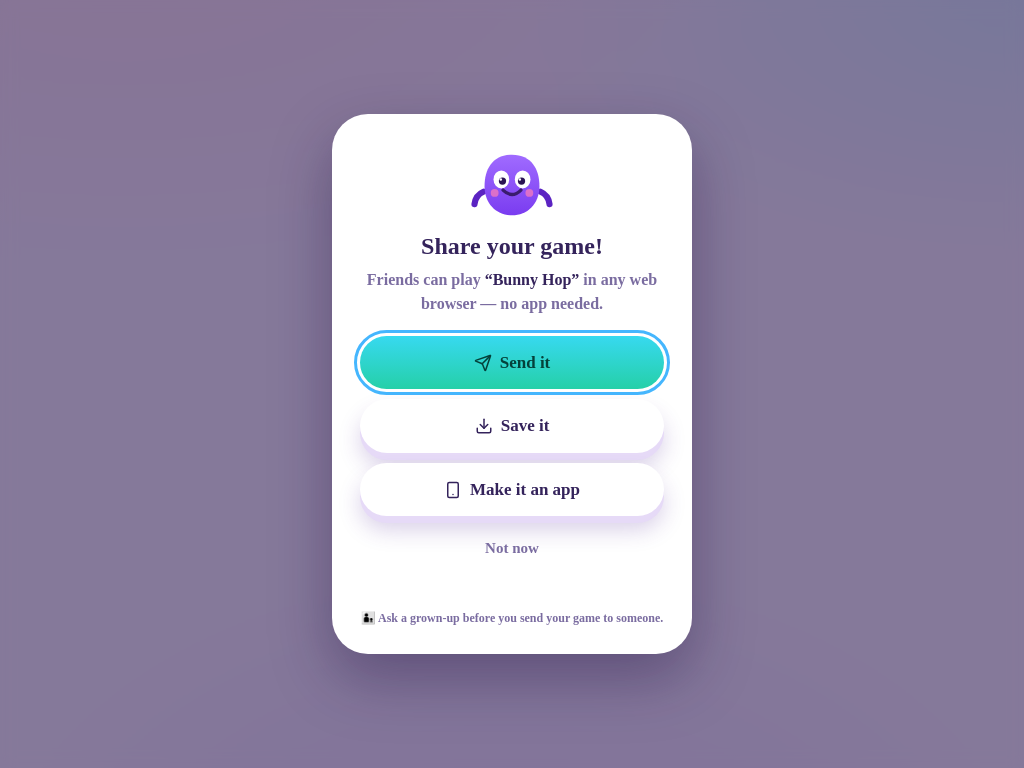
Test: ShareDialog › sends the game file through the share sheet when the device can
Click the button "Send it".
click(512, 363)  # box [360,336,664,389]
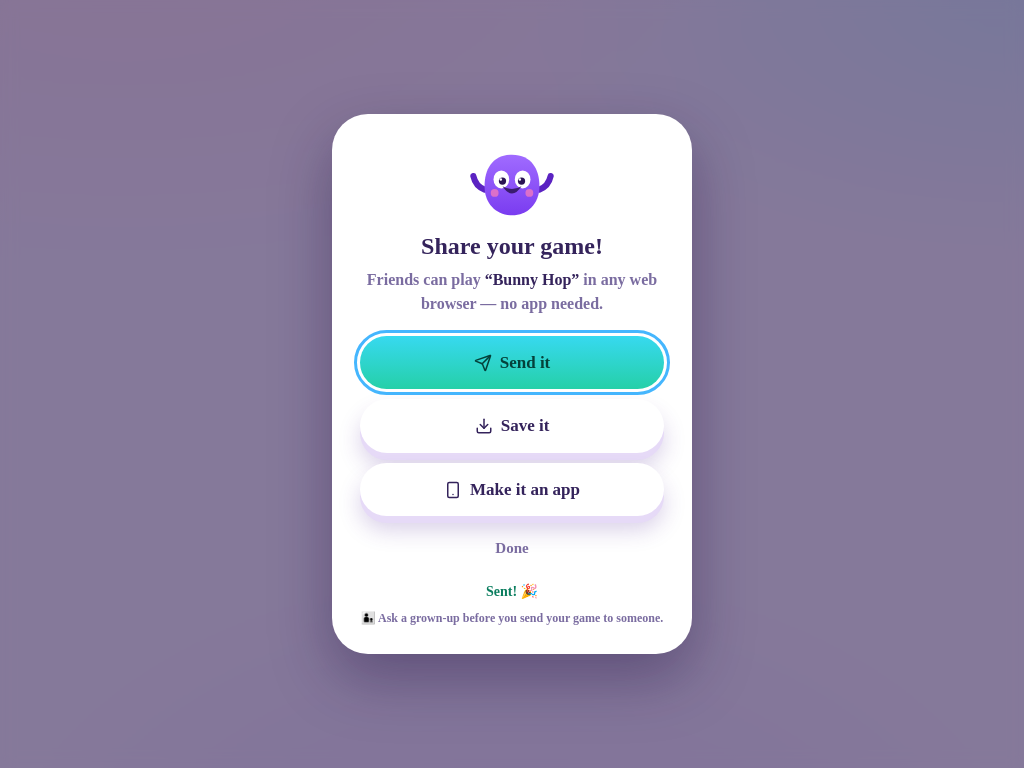
Expected: the text "Sent! 🎉" is shown, [486,584,538,599]
